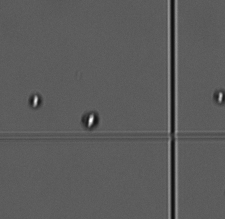Living Cell: (80, 108, 101, 130), (26, 89, 43, 110), (212, 88, 224, 105)
